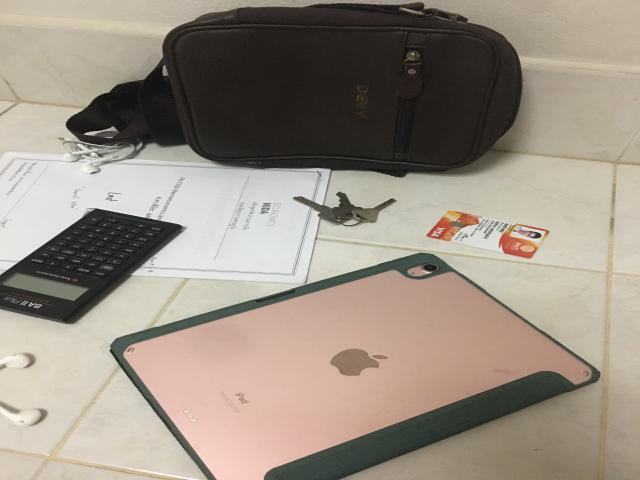Keys: (293, 192, 395, 226)
paper: (0, 152, 330, 283)
wire: (60, 138, 143, 174), (0, 405, 42, 427), (0, 353, 32, 368)
